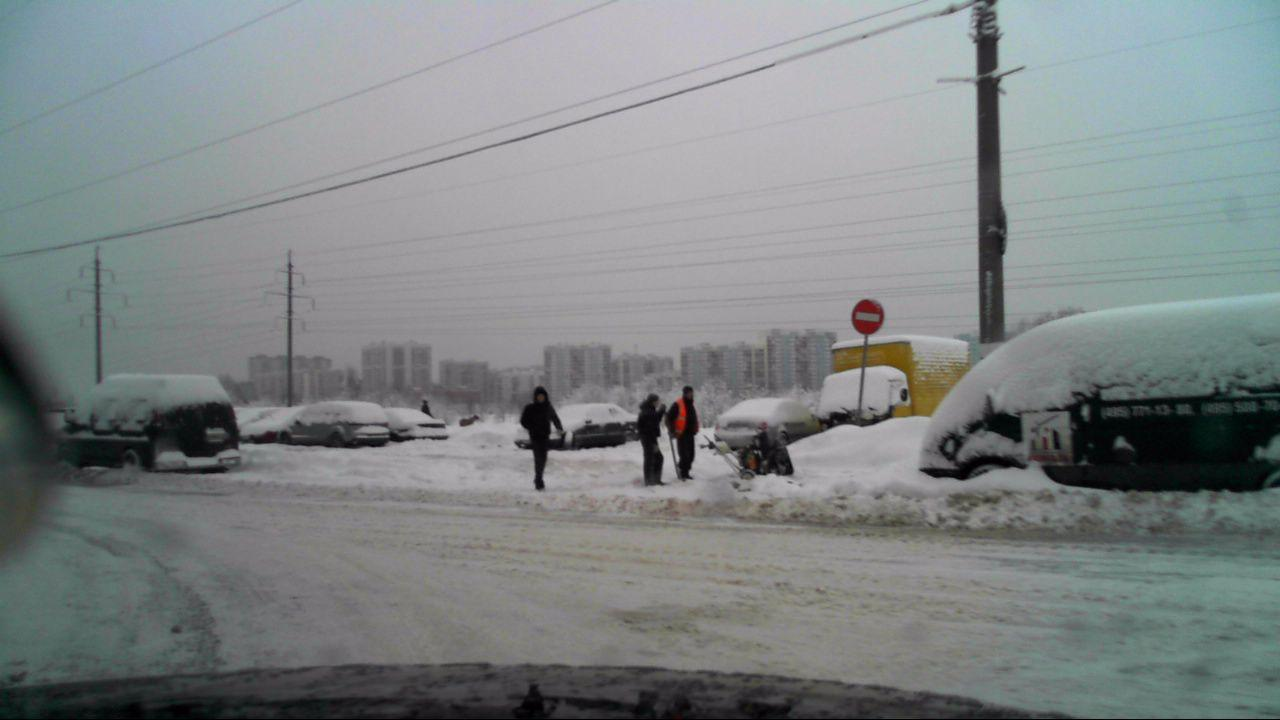3_1: (849, 293, 887, 336)
